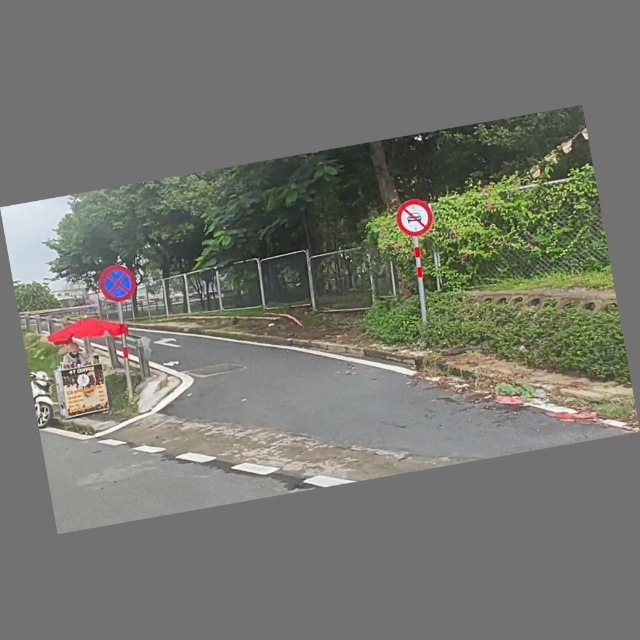P.103a: (394, 197, 436, 240)
P.130: (95, 262, 139, 306)
